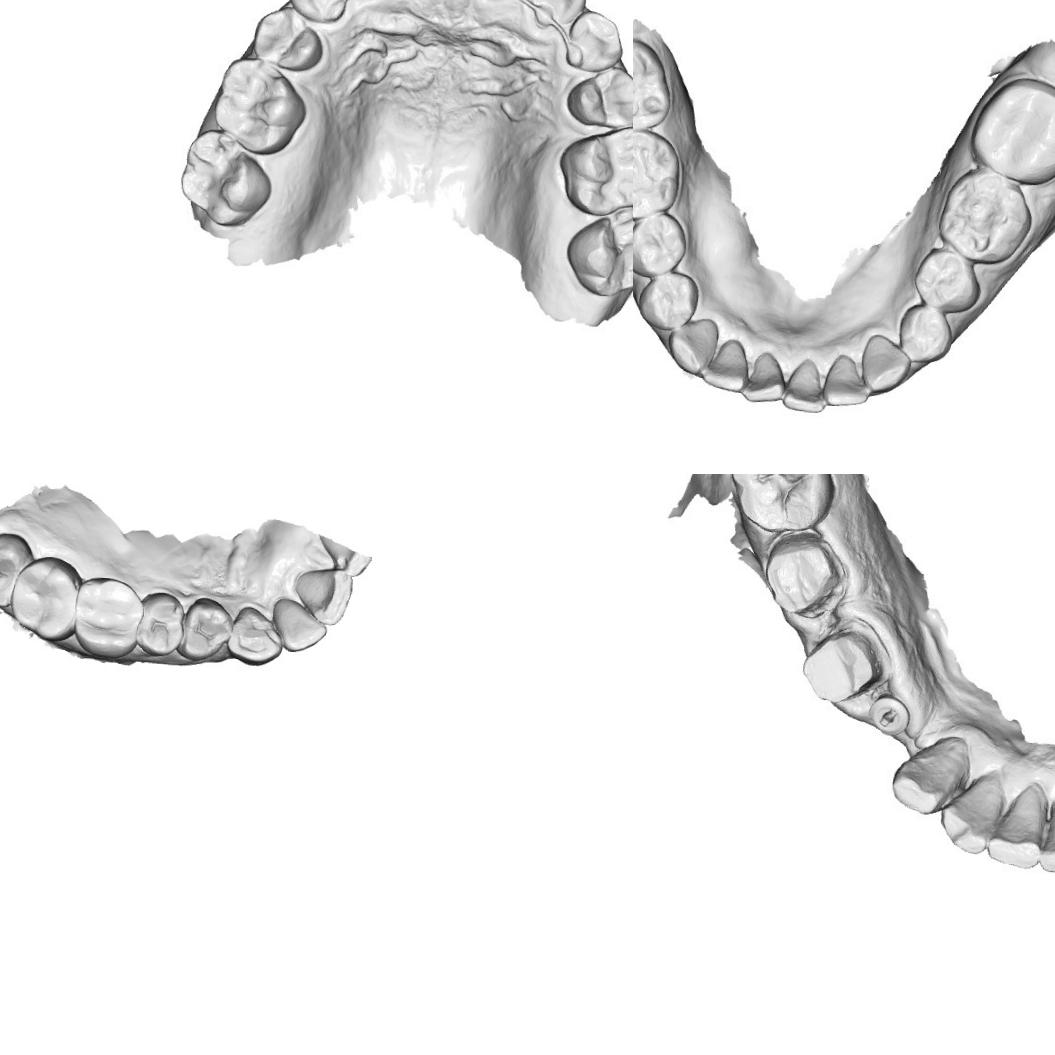canine: (894, 732, 970, 812), (564, 8, 626, 71), (224, 603, 284, 668), (860, 332, 910, 390), (667, 316, 719, 370), (289, 0, 353, 26)
crown: (758, 524, 850, 623), (796, 623, 883, 707)
implant_minus: (860, 688, 919, 747)
incisor: (942, 757, 1010, 854), (989, 772, 1050, 867), (290, 565, 356, 627), (268, 595, 330, 655), (777, 350, 822, 411), (704, 339, 752, 392), (744, 346, 787, 402), (820, 350, 864, 404), (1036, 785, 1055, 868), (531, 0, 588, 24)
molar: (208, 54, 306, 159), (935, 165, 1036, 266), (174, 130, 274, 229), (971, 76, 1055, 184), (556, 121, 633, 215), (564, 201, 633, 301), (5, 552, 80, 644), (71, 573, 145, 662), (725, 474, 837, 532), (633, 118, 682, 220), (633, 33, 673, 134), (0, 529, 36, 610)
premolar: (911, 246, 980, 322), (249, 1, 322, 72), (567, 64, 633, 133), (636, 268, 702, 330), (175, 595, 234, 664), (898, 305, 956, 366), (633, 212, 687, 277), (135, 589, 184, 659)
